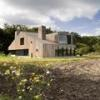chimneys: (38, 26, 45, 40)
